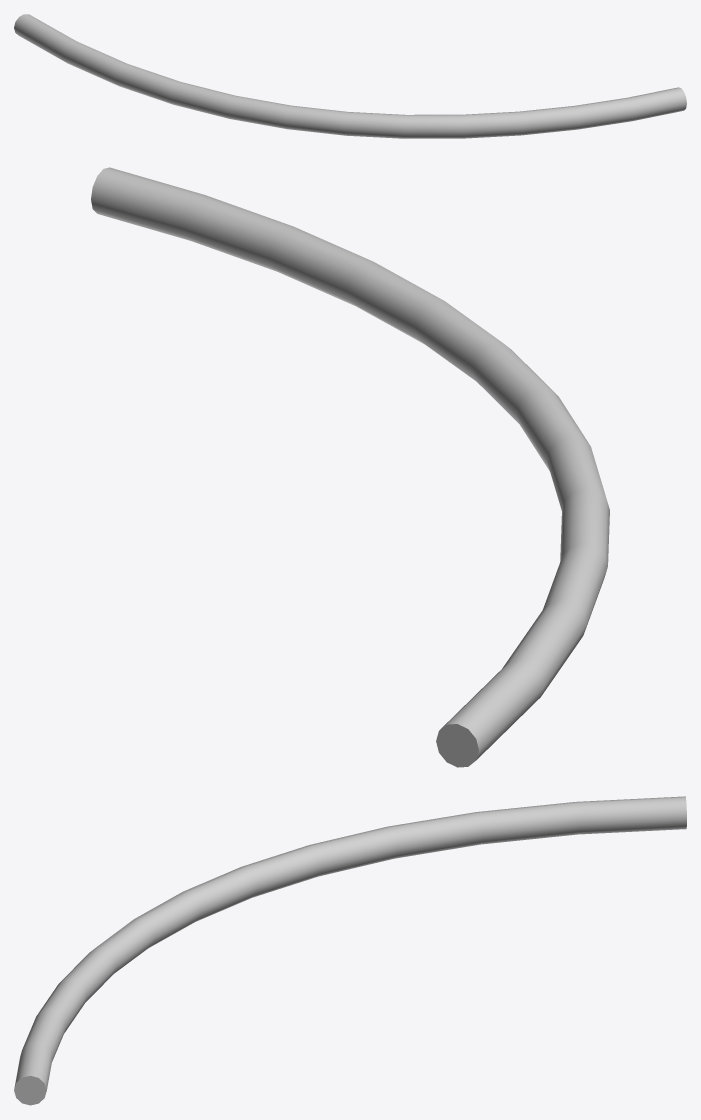
File: QuarterRail_36,5x36,5x1,78.fbx
The picture shows the model from 3 angles, top to bottom: view 1: azimuth 30°, elevation 25°; view 2: azimuth 150°, elevation 25°; view 3: azimuth 270°, elevation 25°; orthographic projection. The views are drawn at different scales.
Parts seen in each view (by area): view 1: QuarterRail_36,5x36,5x1,78; view 2: QuarterRail_36,5x36,5x1,78; view 3: QuarterRail_36,5x36,5x1,78.
Part boxes in pixels (<box>): QuarterRail_36,5x36,5x1,78: <box>14,14,686,138</box>; QuarterRail_36,5x36,5x1,78: <box>91,167,609,767</box>; QuarterRail_36,5x36,5x1,78: <box>14,796,686,1105</box>.
Bounding box in the file's own units: 36.54 × 36.47 × 1.78.
